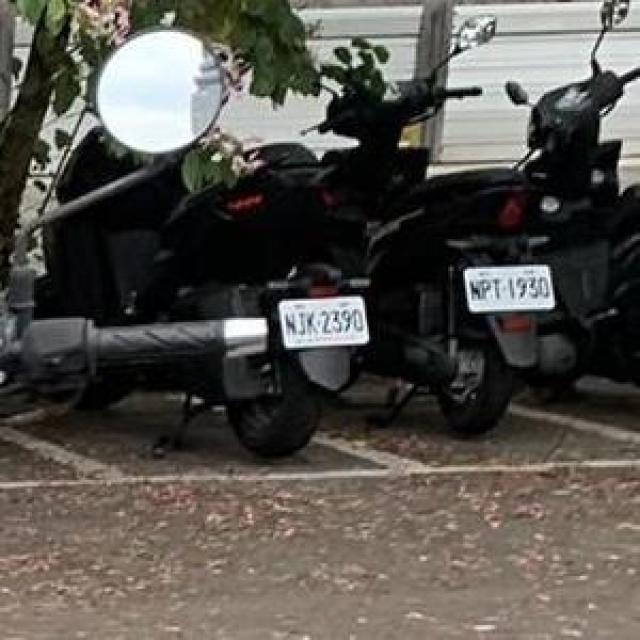W: (454, 256, 561, 318), (273, 288, 373, 352)
